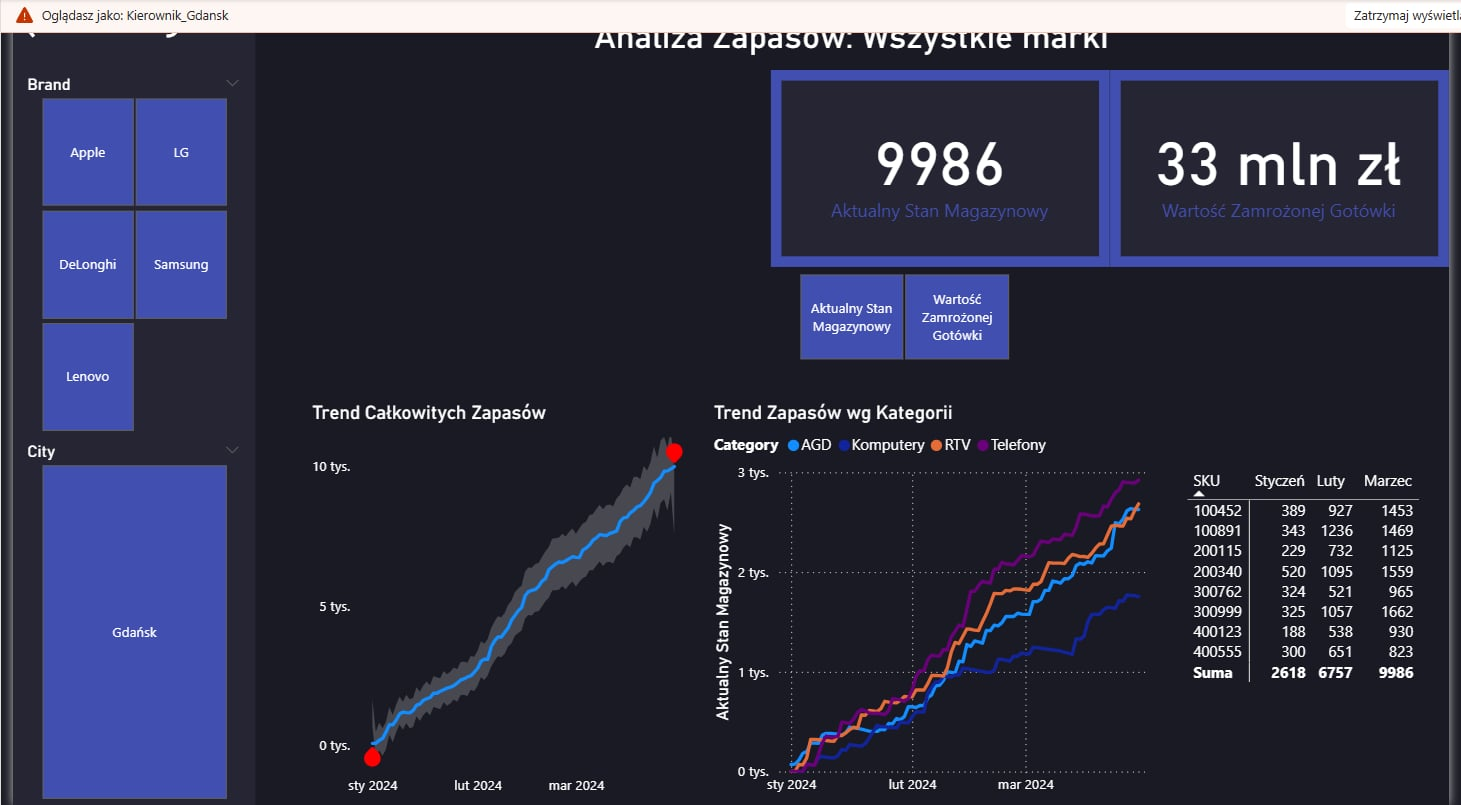

What the dashboard file says about the page in this screenshot:
{"tool":"powerbi","page":{"name":"Overview","canvas":[1280,720],"ordinal":0},"visuals":[{"type":"pivotTable","fields":{"Rows":["Dim_Product.Product_Number"],"Values":["_Miary.Aktualny Stan Magazynowy"],"Columns":["Fact_Snapshots.Miesiąc"]},"box":[1042,414.7,238.1,305.1],"z":0},{"type":"shape","box":[0,63.5,215,656.7],"z":500,"group":"g1"},{"type":"shape","box":[0,0,216.2,719.7],"z":1000,"group":"g1"},{"type":"card","fields":{"Values":["_Miary.Wartość Zamrożonej Gotówki"]},"box":[977.7,63.3,302.3,175.7],"z":1000},{"type":"card","fields":{"Values":["_Miary.Aktualny Stan Magazynowy"]},"box":[675.4,63.3,302.3,175.7],"z":2000},{"type":"lineChart","title":"Trend Zapasów wg Kategorii","fields":{"Y":["_Miary.Aktualny Stan Magazynowy"],"Category":["Dim_Date.Date"],"Series":["Dim_Product.Category"]},"box":[619.7,358,413.8,361.8],"z":3000},{"type":"slicer","fields":{"Values":["Wybór Miary.Wybór Miary"]},"box":[675.4,239,236.2,88.8],"z":4000},{"type":"group","id":"g1","title":"Panel Filtrów","box":[0,0,216.3,719.8],"z":5000},{"type":"slicer","fields":{"Values":["Dim_Location.City"]},"box":[0,390.1,214.7,329.6],"z":6000,"group":"g1"},{"type":"slicer","fields":{"Values":["Dim_Product.Brand"]},"box":[0,63.6,214.8,328.4],"z":7000,"group":"g1"},{"type":"lineChart","title":"Trend Całkowitych Zapasów","fields":{"Y":["_Miary.Aktualny Stan Magazynowy"],"Category":["Dim_Date.Date"]},"box":[261.7,358,358,361.8],"z":7000},{"type":"actionButton","box":[0,0,100.1,39.7],"z":7500,"group":"g1"},{"type":"actionButton","box":[116.2,0,99.2,39.7],"z":8000},{"type":"card","fields":{"Values":["_Miary.Dynamiczny Tytul"]},"box":[214.5,0,1066,63.1],"z":9000}]}

Visuals, with their boxes on the page's 1280x720 design canvas (x1, y1, x2, y2). These are canvas units, not pixel positions in the 1461x805 screenshot, which may show the page scaled, cropped or inside an application window:
pivotTable - Dim_Product.Product_Number x _Miary.Aktualny Stan Magazynowy: 1042,415,1280,720
shape: 0,64,215,720
shape: 0,0,216,720
card - _Miary.Wartość Zamrożonej Gotówki: 978,63,1280,239
card - _Miary.Aktualny Stan Magazynowy: 675,63,978,239
"Trend Zapasów wg Kategorii" lineChart: 620,358,1034,720
slicer - Wybór Miary.Wybór Miary: 675,239,912,328
"Panel Filtrów" group: 0,0,216,720
slicer - Dim_Location.City: 0,390,215,720
slicer - Dim_Product.Brand: 0,64,215,392
"Trend Całkowitych Zapasów" lineChart: 262,358,620,720
actionButton: 0,0,100,40
actionButton: 116,0,215,40
card - _Miary.Dynamiczny Tytul: 214,0,1280,63
